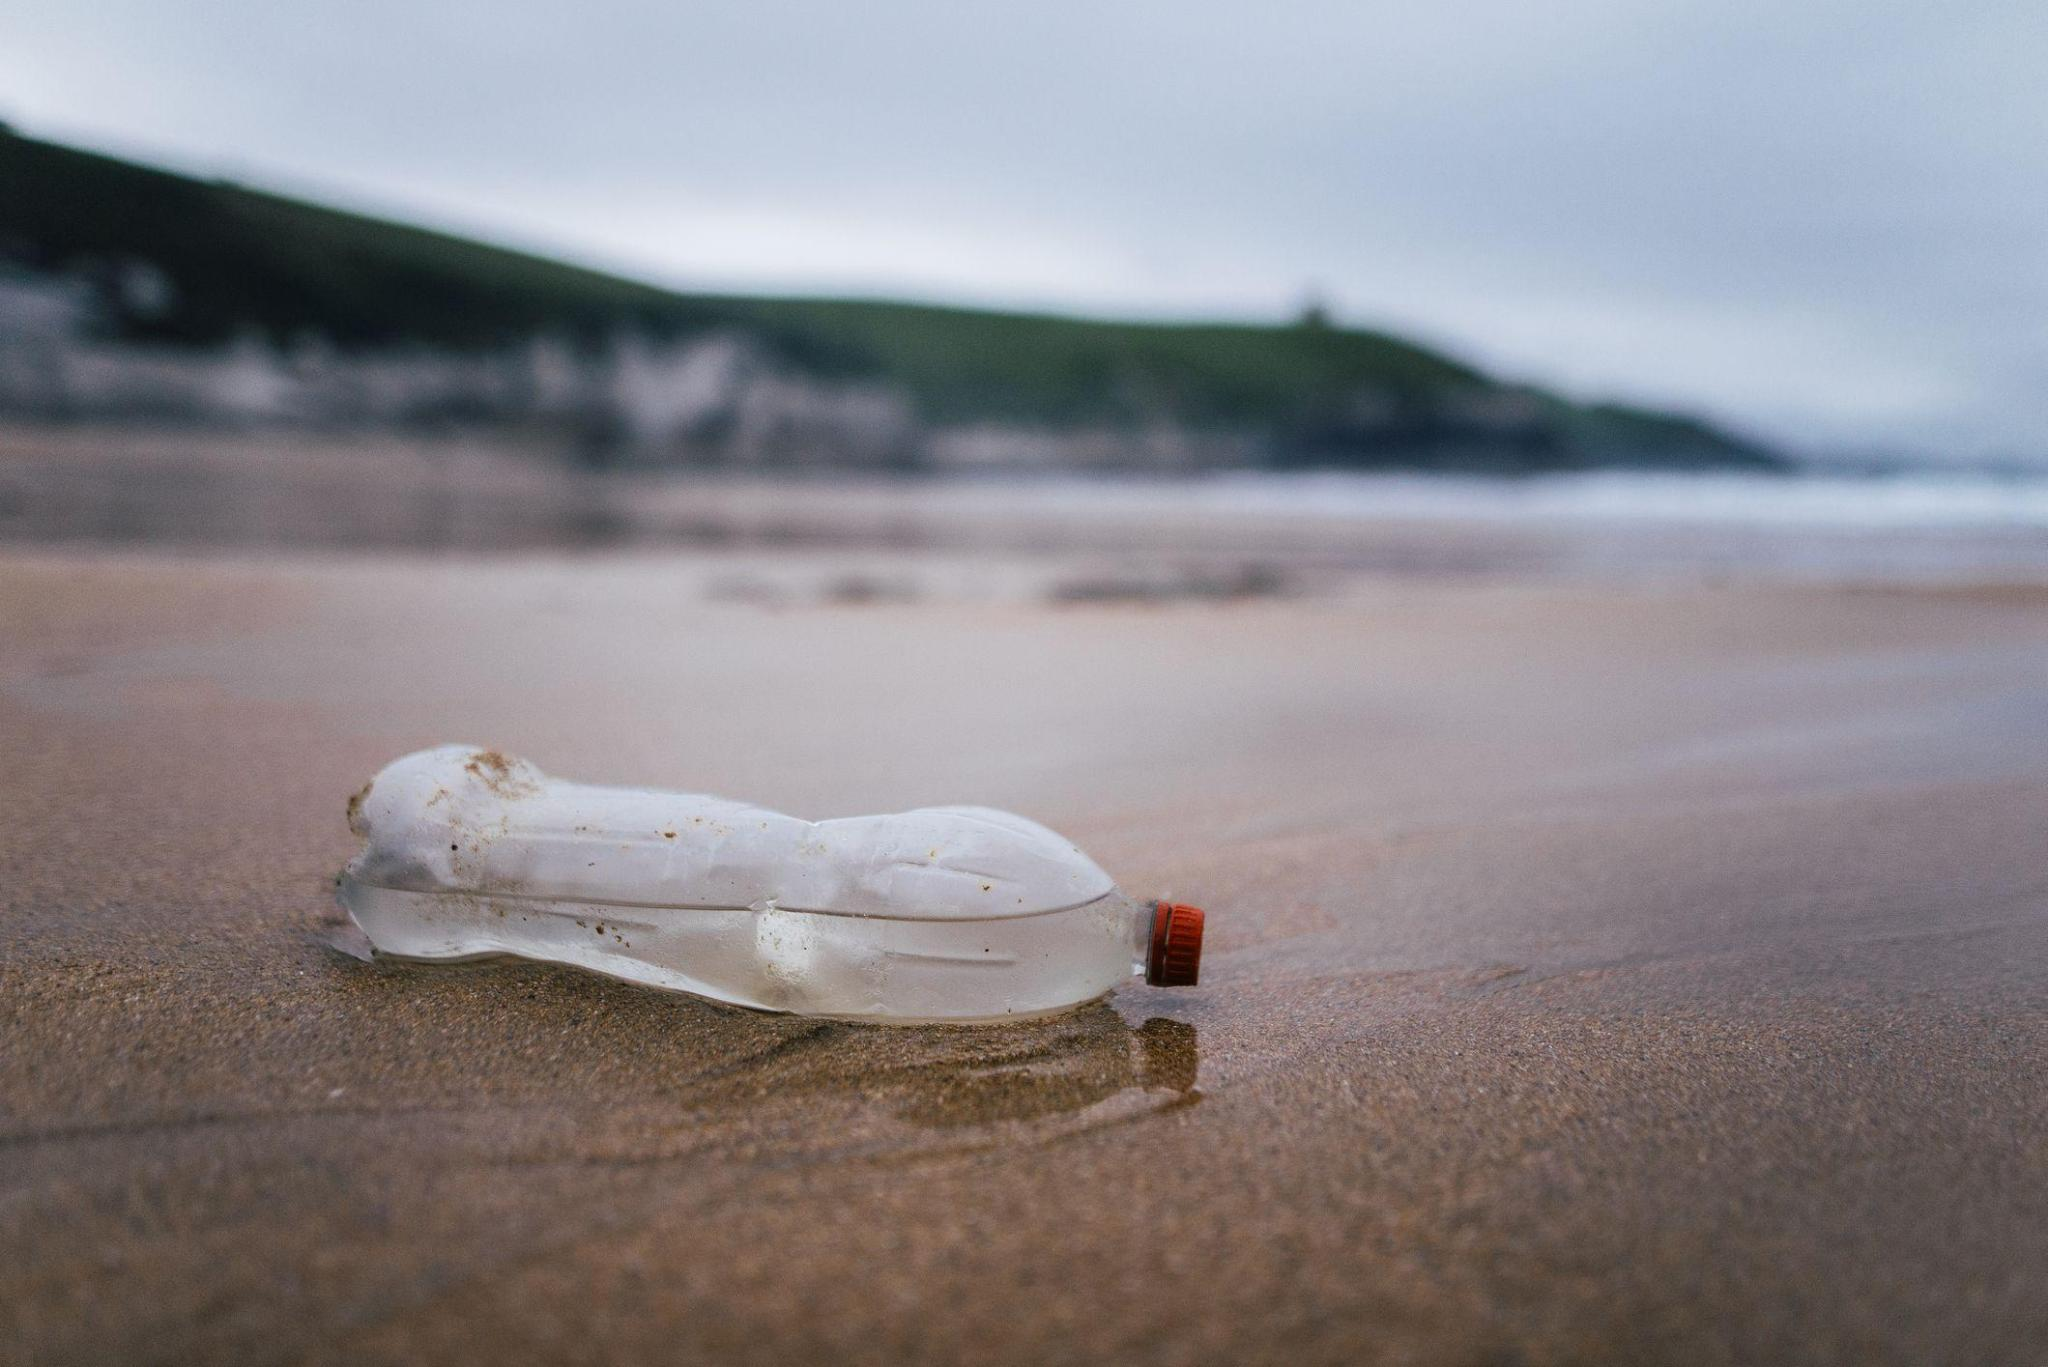bottle: (320, 722, 1208, 1033)
